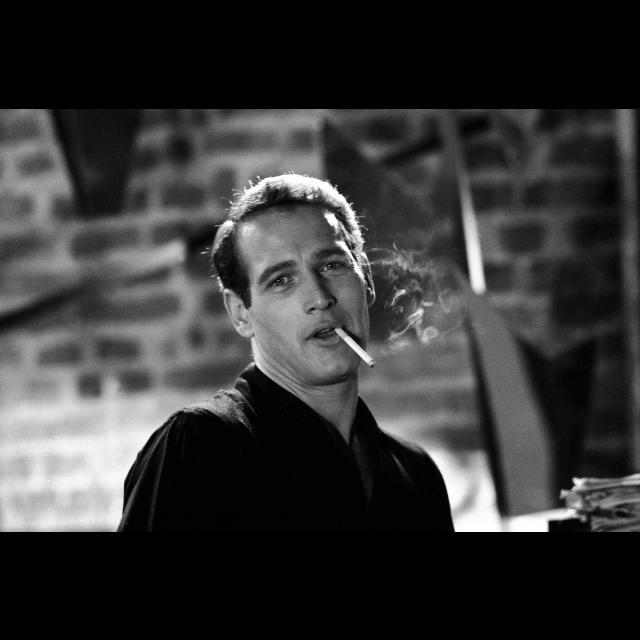rokok: (333, 319, 383, 369)
